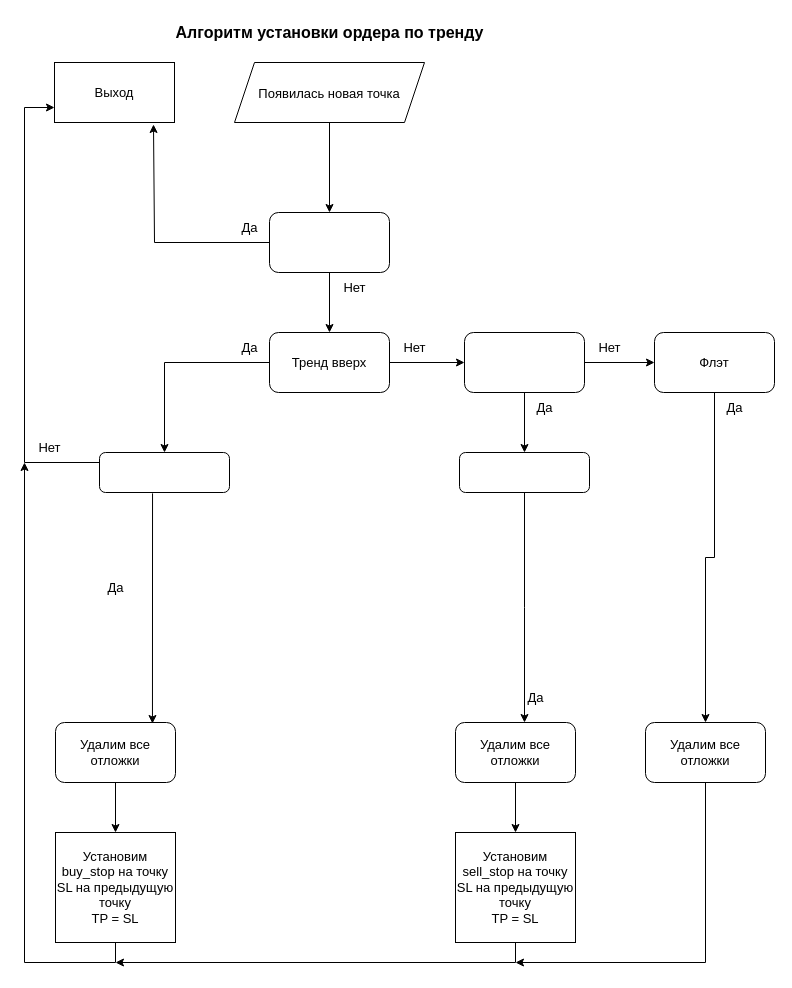
The diagram is 792 pixels wide and 988 high, and some of its shapes have lost their labels. The shapes that lost their labels are listed below. From the top down, each one's centre as x and y in pixels, then its label:
At point 329,242: "Есть открытая позиция".
At point 524,362: "Тренд вниз".
At point 164,472: "Точка выше 1й точки".
At point 524,472: "Точка ниже 1й точки".
